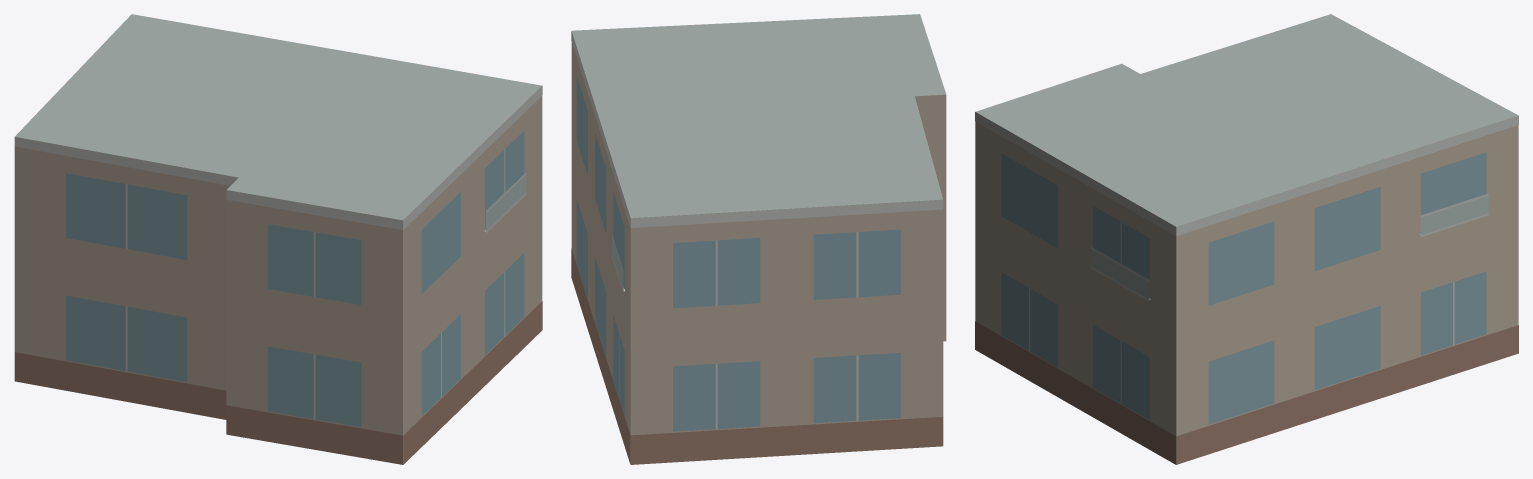
File: survey-upis-32710224.glb
3 renders of one model, left to right at view 1: azimuth 30°, elevation 25°; view 2: azimuth 150°, elevation 25°; view 3: azimuth 270°, elevation 25°, orthographic. The views are drawn at different scales.
Parts seen in each view (by area): view 1: survey-upis-32710224.tmp; view 2: survey-upis-32710224.tmp; view 3: survey-upis-32710224.tmp.
Boxes of the visible parts, x1=… form: survey-upis-32710224.tmp: x1=14, y1=14, x2=542, y2=464; survey-upis-32710224.tmp: x1=571, y1=14, x2=946, y2=464; survey-upis-32710224.tmp: x1=975, y1=14, x2=1518, y2=464.
Size of the model in its own units: 11.71 by 6.1 by 12.63.
